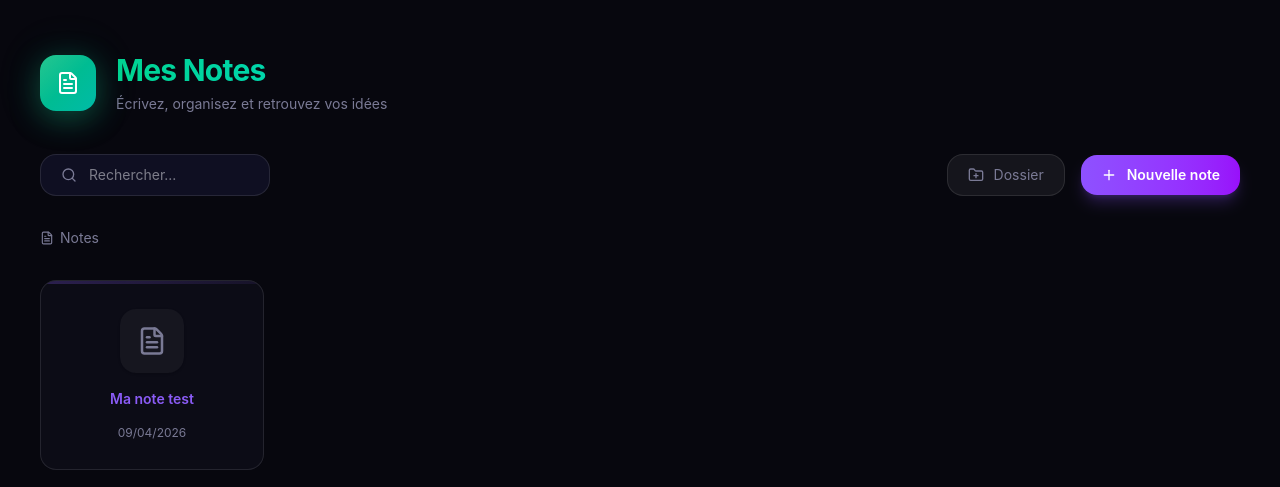
Test: Notes - Attachments › displays attachments in banner when present
Double-click the 6th icon: (152,341) 137,326 -> 167,356
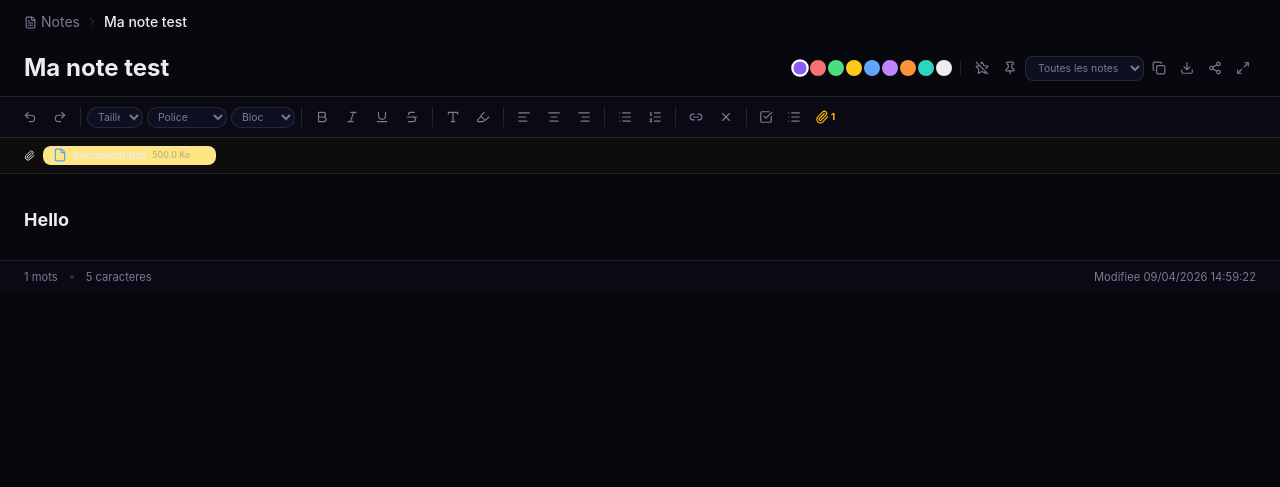
Expected: the link "document.pdf" is shown, 73,148 -> 146,162
Expected: the button titled "Pièces jointes (1)" is shown, 809,103 -> 841,131
